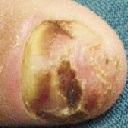Squamous Carcinoma: (20, 18, 117, 119)
